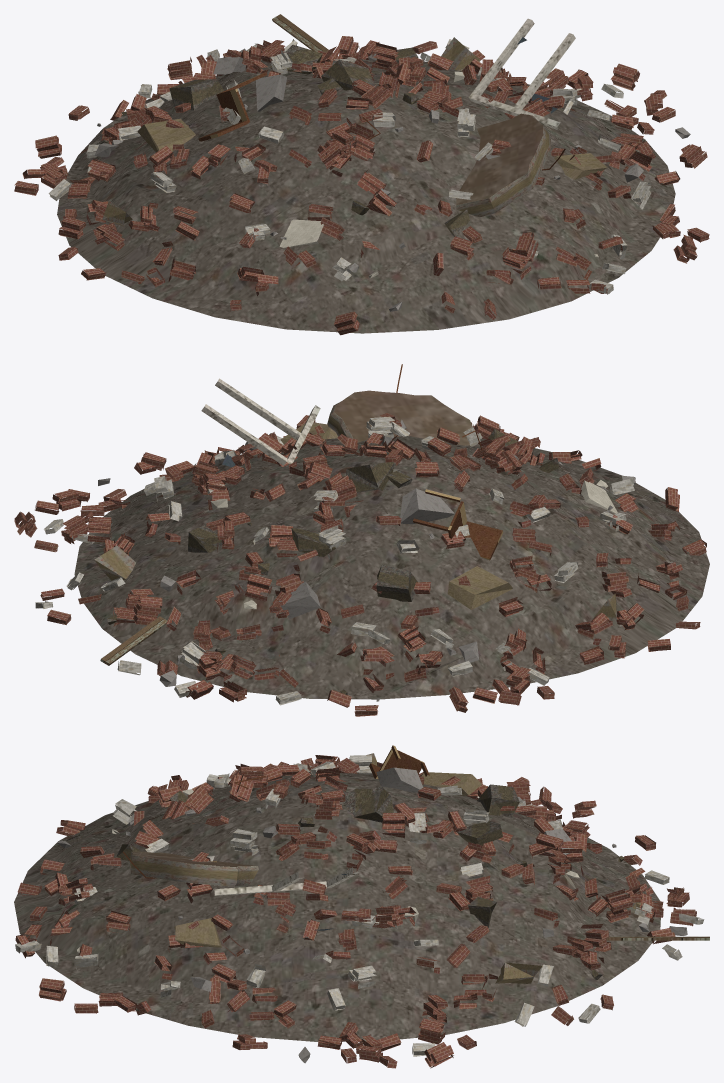
Rendered from rubble_8.glb.
3 views of the same model, one above another, from view 1: azimuth 30°, elevation 25°; view 2: azimuth 150°, elevation 25°; view 3: azimuth 270°, elevation 25° (orthographic).
Visible parts, largest first — view 1: rubble_8; view 2: rubble_8; view 3: rubble_8.
Part boxes in pixels (left/top/right/bottom): rubble_8: left=14, top=14, right=709, bottom=335; rubble_8: left=14, top=364, right=709, bottom=716; rubble_8: left=14, top=745, right=709, bottom=1068.
Bounding box in the file's own units: 8.19 × 1.75 × 7.91.
1 material, 1 textured.
